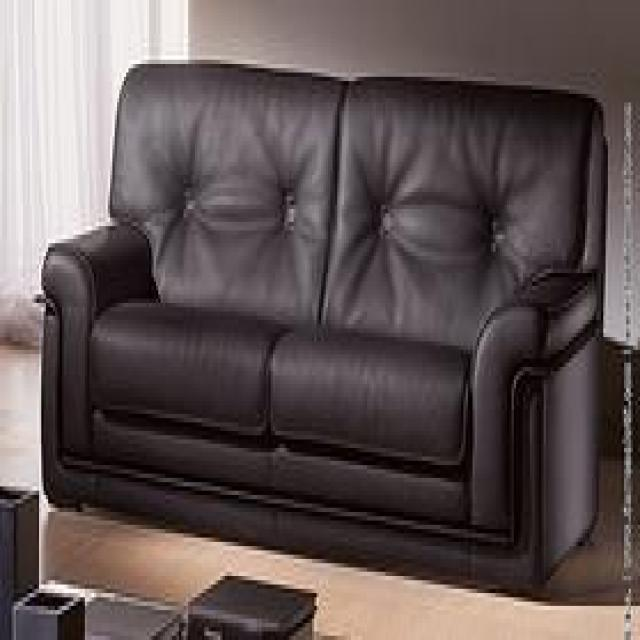sofa: (37, 56, 608, 606)
